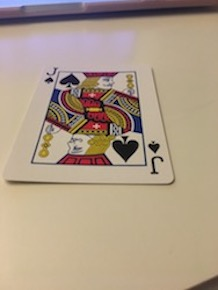JackOfSpades: (2, 62, 177, 189)
